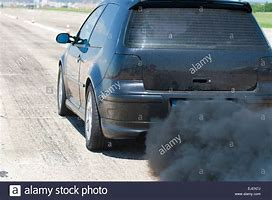smoke: (147, 103, 272, 180)
